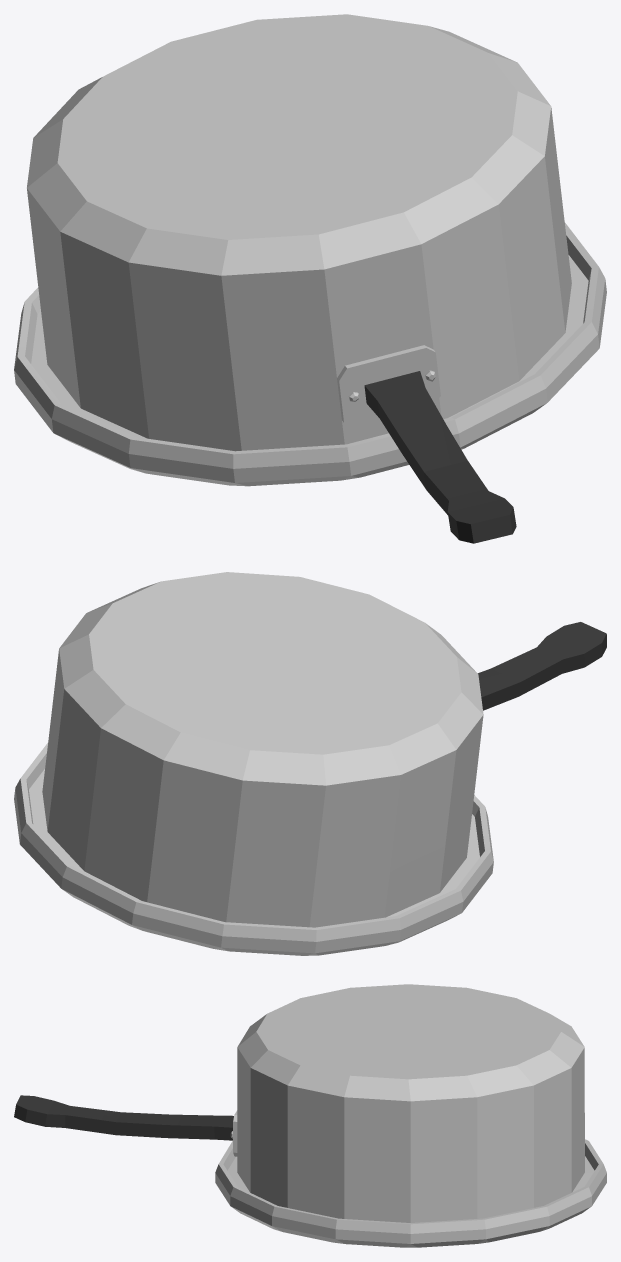
File: SAUCEPAN HAT.fbx
3 views of the same model, one above another, from view 1: azimuth 30°, elevation 25°; view 2: azimuth 150°, elevation 25°; view 3: azimuth 270°, elevation 25° (orthographic). The views are drawn at different scales.
Parts seen in each view (by area): view 1: SAUCEPAN_HAT; view 2: SAUCEPAN_HAT; view 3: SAUCEPAN_HAT.
Boxes of the visible parts, x1=… form: SAUCEPAN_HAT: x1=14, y1=14, x2=606, y2=543; SAUCEPAN_HAT: x1=14, y1=572, x2=606, y2=955; SAUCEPAN_HAT: x1=14, y1=984, x2=606, y2=1247.
Bounding box in the file's own units: 28.68 × 15.02 × 43.5.
